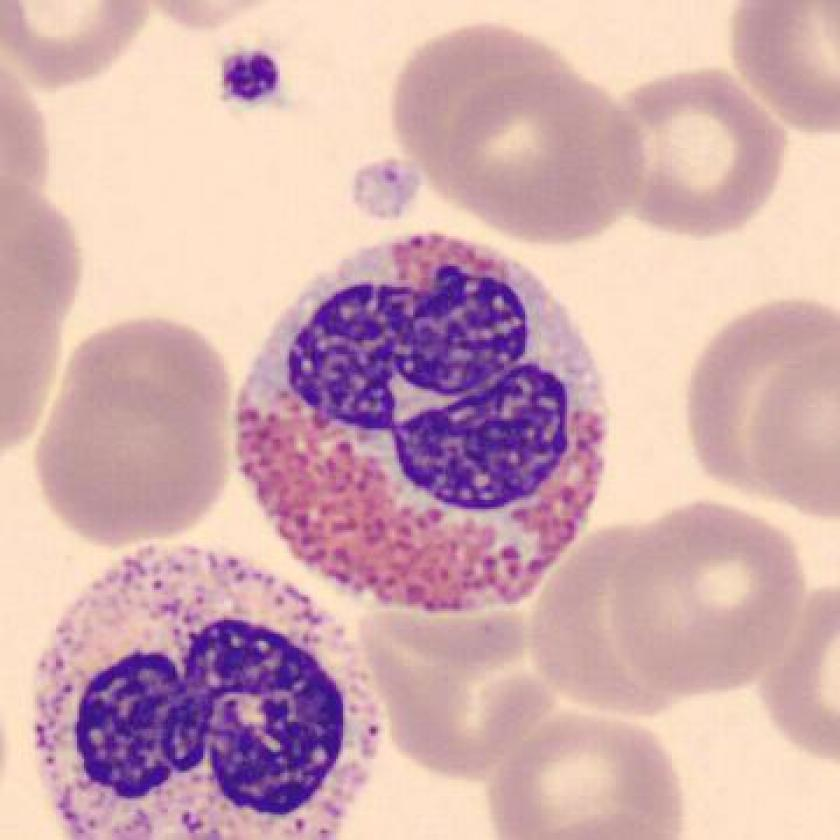eosinophil: (216, 218, 629, 626)
